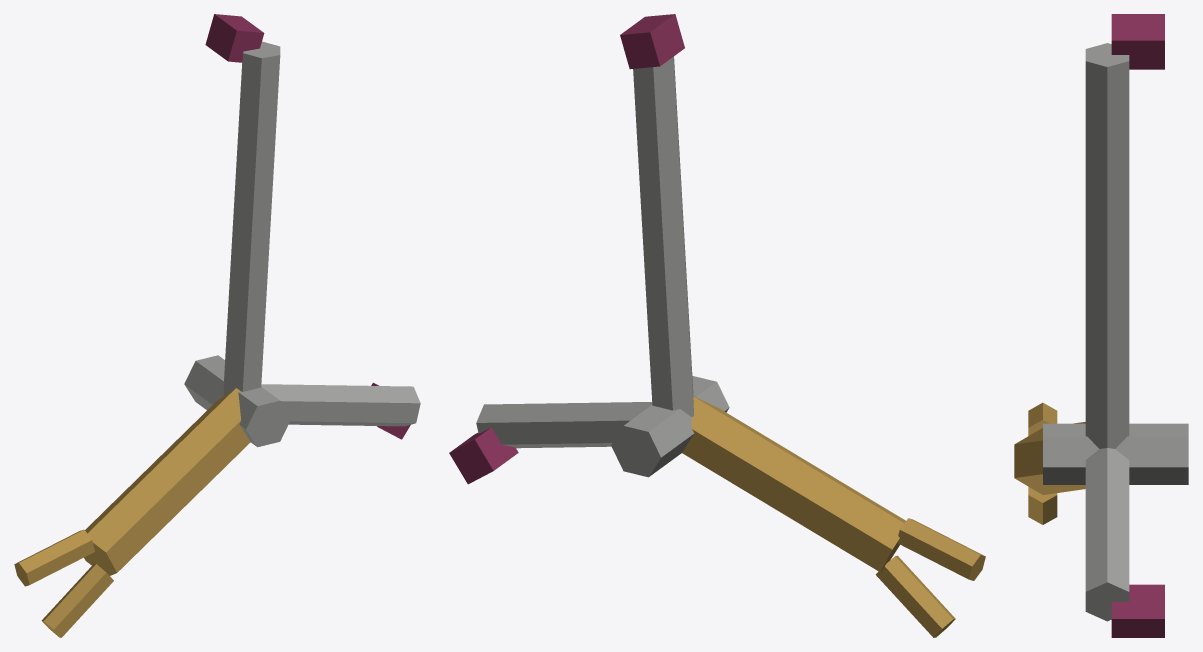
The model's file is PalletLever.glb.
The picture shows the model from 3 angles, left to right: view 1: azimuth 30°, elevation 25°; view 2: azimuth 150°, elevation 25°; view 3: azimuth 270°, elevation 25°; orthographic projection. The views are drawn at different scales.
Visible parts, largest first — view 1: PalletLever; view 2: PalletLever; view 3: PalletLever.
Boxes of the visible parts, x1,y1,x2,y2 form: PalletLever: [14, 14, 420, 637]; PalletLever: [449, 14, 985, 637]; PalletLever: [1014, 14, 1188, 637].
Bounding box in the file's own units: 0.208 × 0.2477 × 0.0622.
